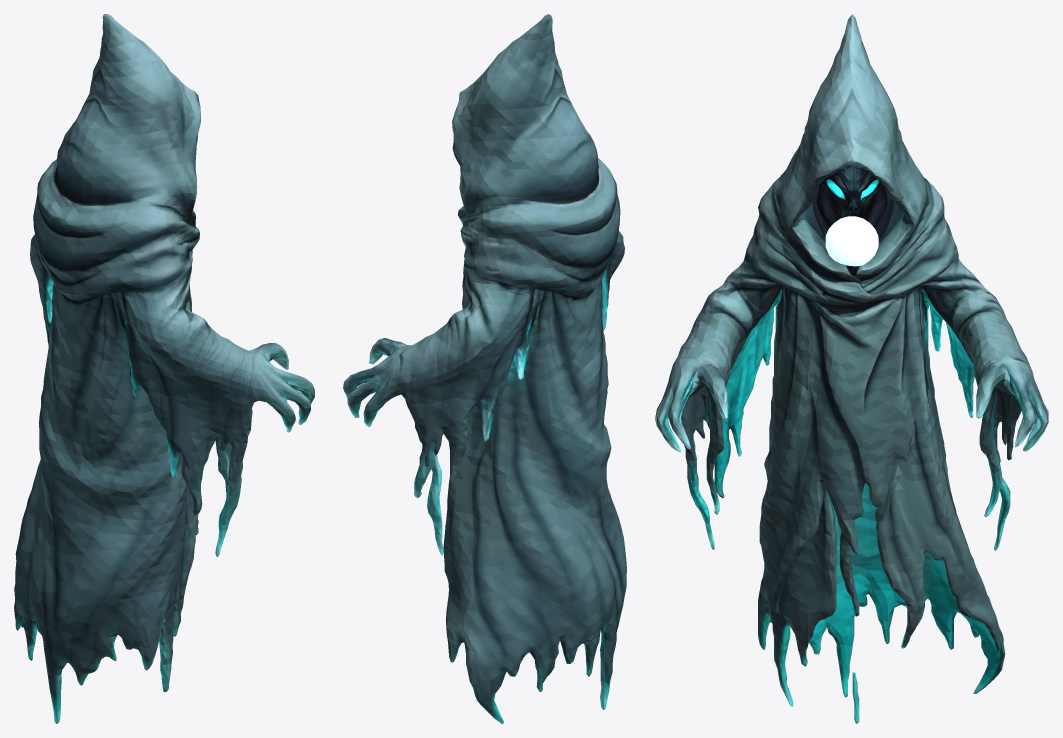
File: wraith.glb
The picture shows the model from 3 angles, left to right: view 1: azimuth 30°, elevation 25°; view 2: azimuth 150°, elevation 25°; view 3: azimuth 270°, elevation 25°; orthographic projection. The views are drawn at different scales.
Parts seen in each view (by area): view 1: body; view 2: body; view 3: body, eye.
Part boxes in pixels (<box>): body: <box>14,14,314,723</box>; body: <box>343,14,626,723</box>; body: <box>655,14,1048,723</box>; eye: <box>825,216,878,266</box>.
Size of the model in its own units: 0.5479 by 1.91 by 0.9589.
Materials: 2 (1 with a texture image).
